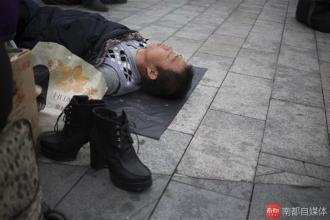fall: (8, 1, 193, 98)
